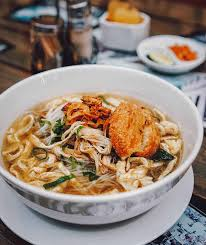soto: (8, 77, 204, 212)
